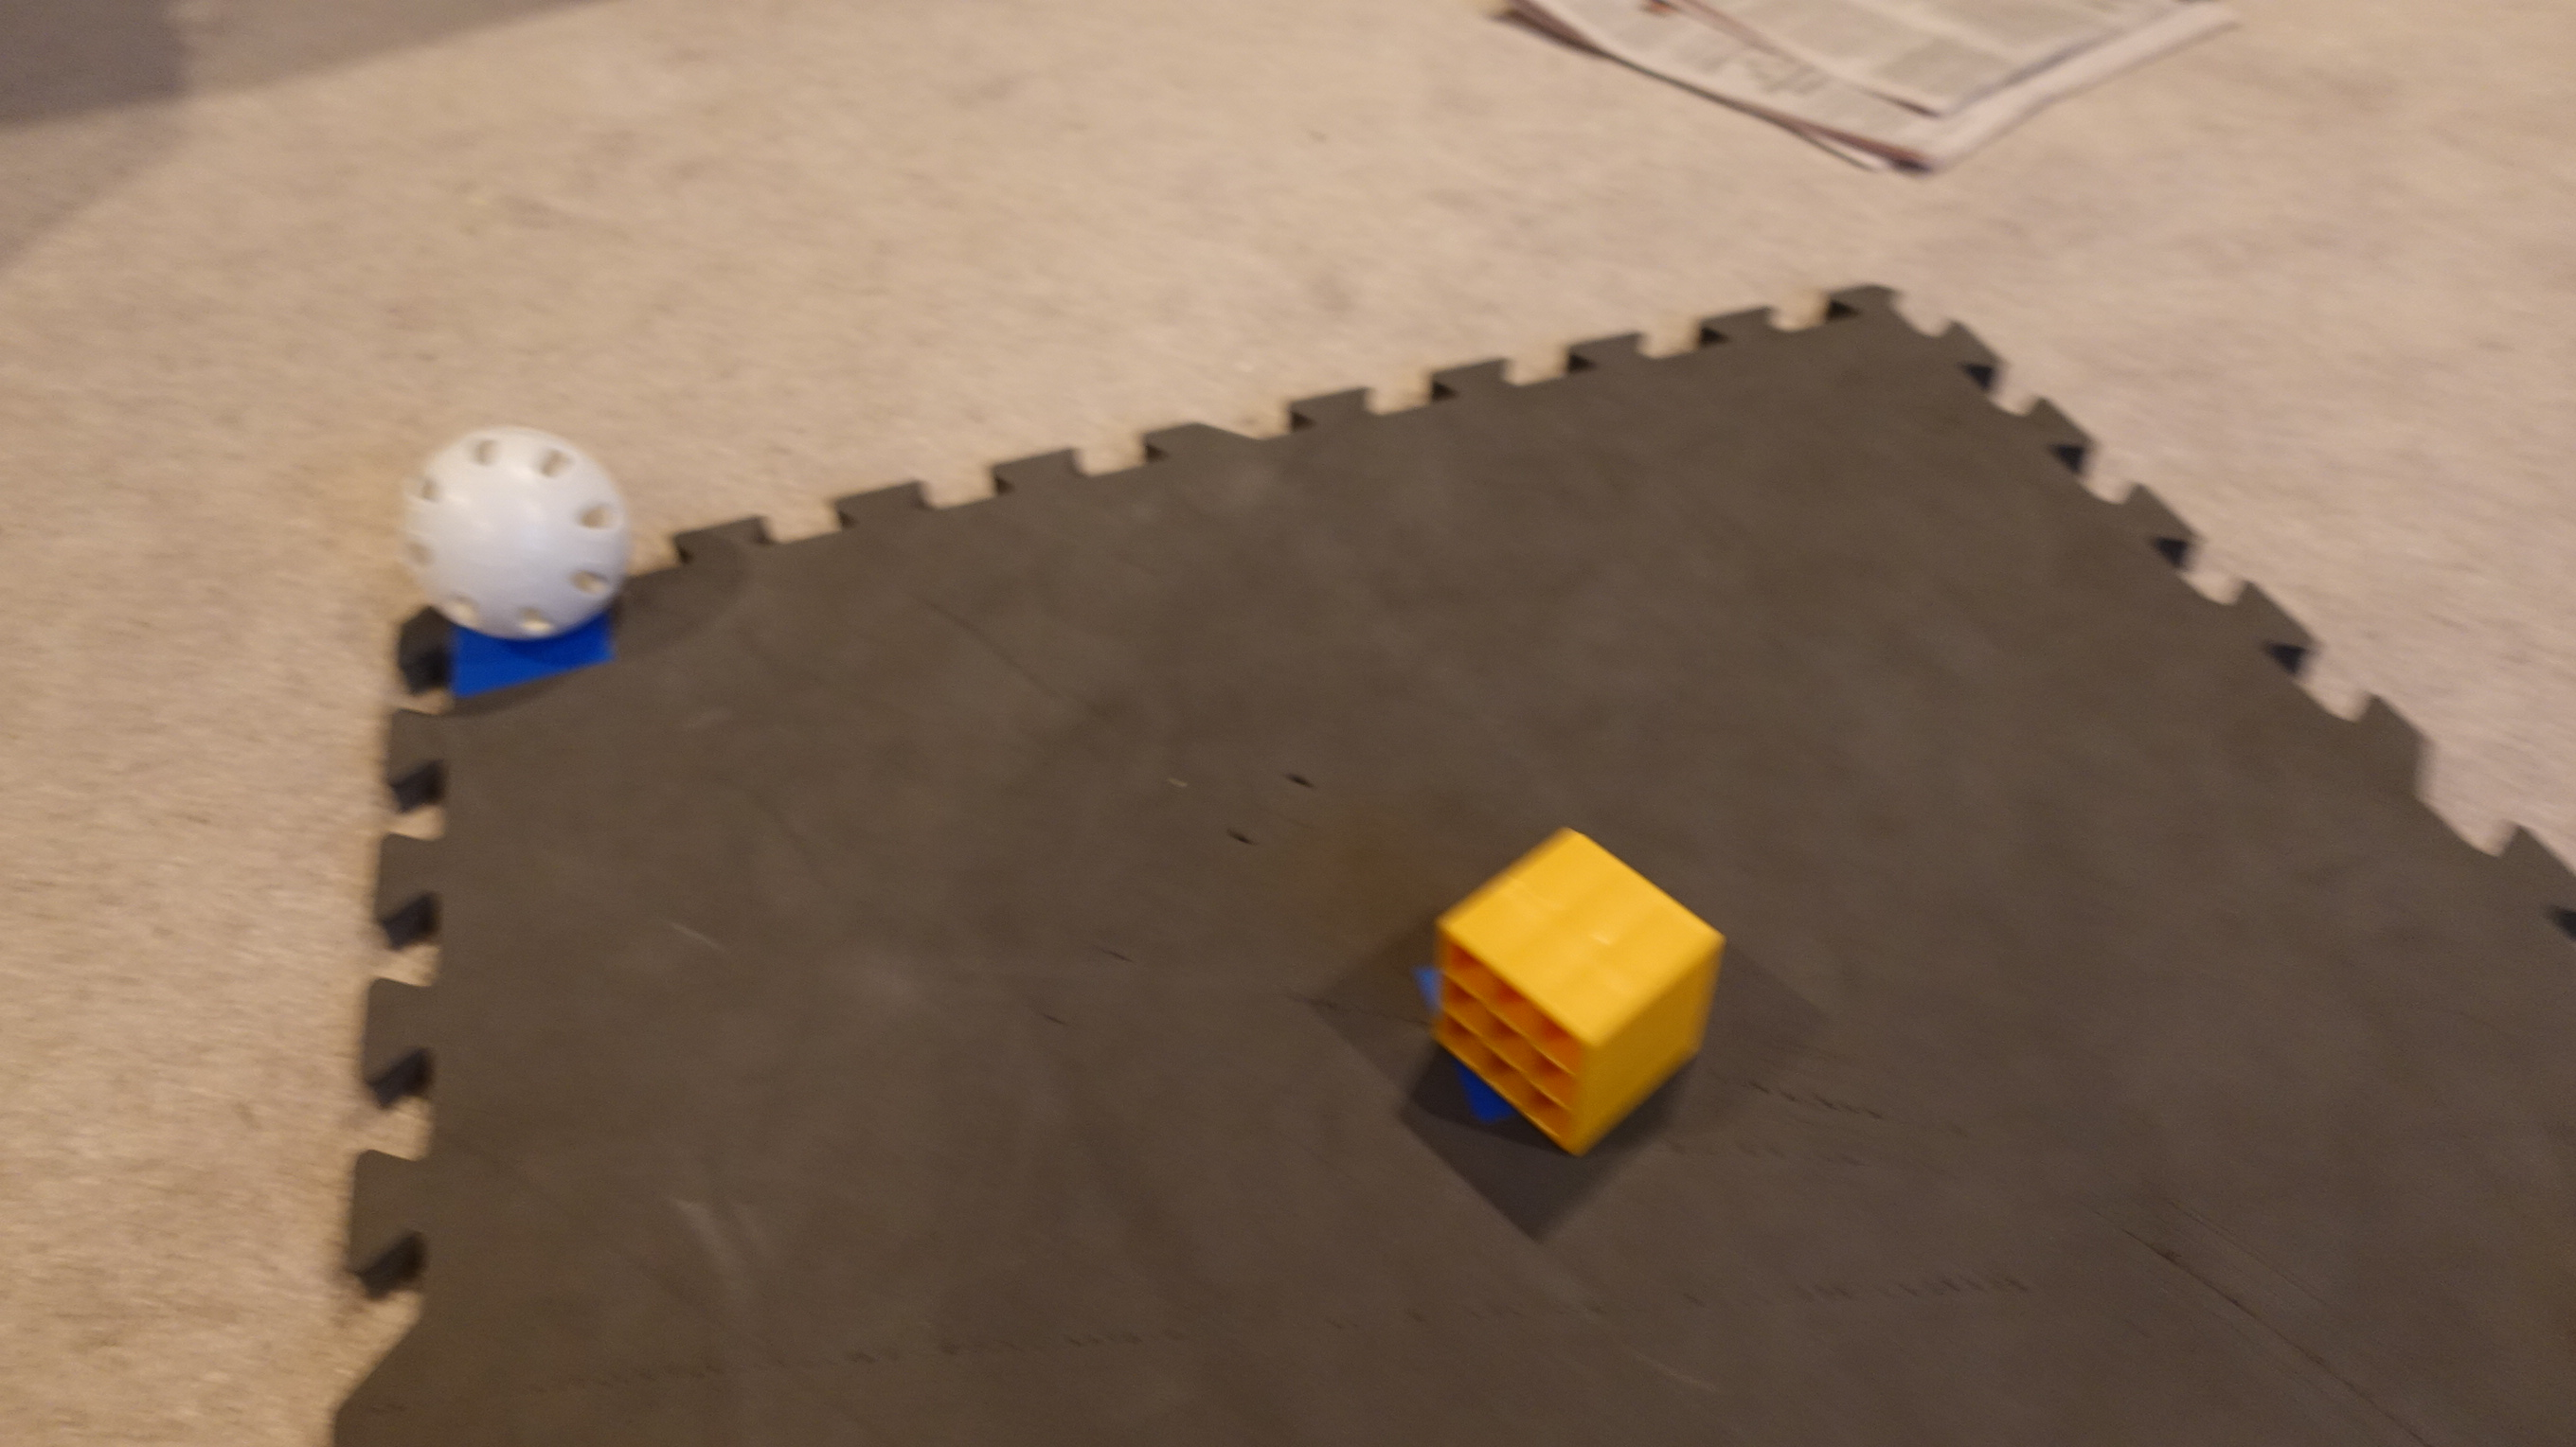gold: (1428, 819, 1727, 1173)
silver: (396, 426, 632, 646)
